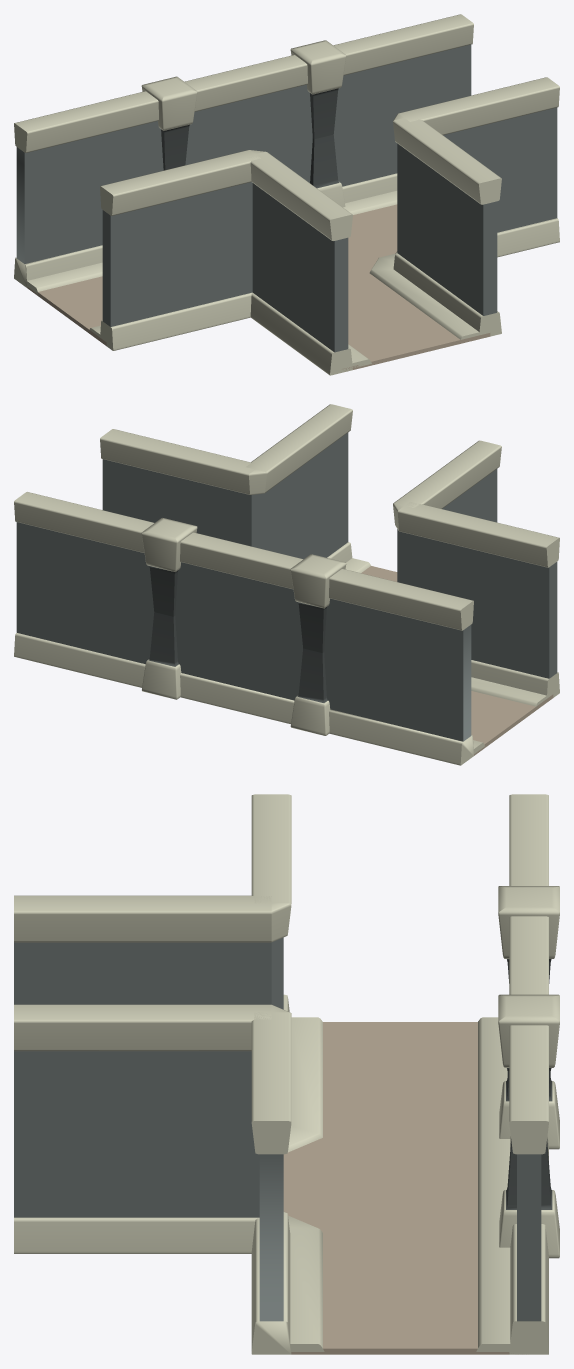
Rendered from HallMedIntersectionx3.fbx.
3 renders of one model, top to bottom at view 1: azimuth 30°, elevation 25°; view 2: azimuth 150°, elevation 25°; view 3: azimuth 270°, elevation 25°, orthographic. The views are drawn at different scales.
Visible parts, largest first — view 1: WallCornerOut.006; view 2: WallCornerOut.006; view 3: WallCornerOut.006.
Part boxes in pixels (box(x1,y1,x2,y2)): WallCornerOut.006: box(14, 14, 559, 375); WallCornerOut.006: box(14, 404, 559, 765); WallCornerOut.006: box(14, 794, 559, 1354).
Size of the model in its own units: 1200 by 410 by 848.
